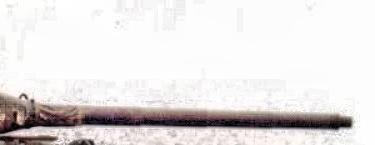tanks: (1, 92, 351, 145), (71, 142, 95, 145)
